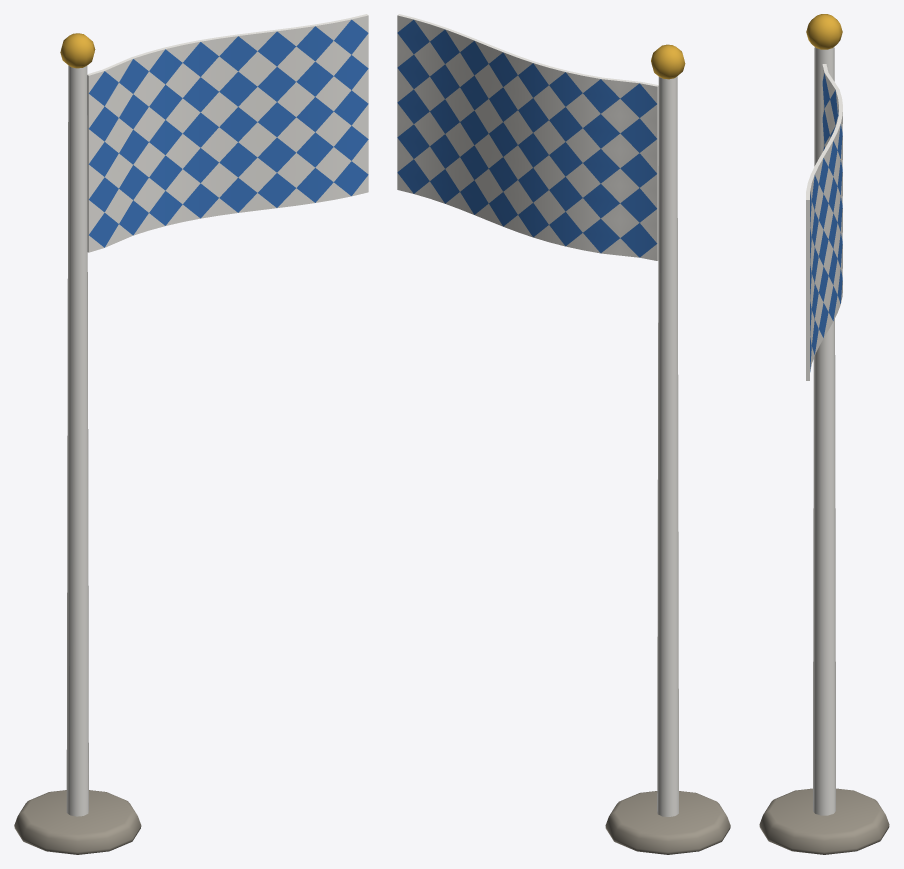
Rendered from bandeira_baviera.glb.
3 views of the same model, side by side, from view 1: azimuth 30°, elevation 25°; view 2: azimuth 150°, elevation 25°; view 3: azimuth 270°, elevation 25° (orthographic). The views are drawn at different scales.
Parts seen in each view (by area): view 1: Bandeira_Baviera; view 2: Bandeira_Baviera; view 3: Bandeira_Baviera.
Part boxes in pixels (box(x1,y1,x2,y2)): Bandeira_Baviera: box(14, 14, 368, 854); Bandeira_Baviera: box(397, 14, 730, 854); Bandeira_Baviera: box(759, 14, 889, 854).
Bounding box in the file's own units: 1.2 × 2.7 × 0.3905.
